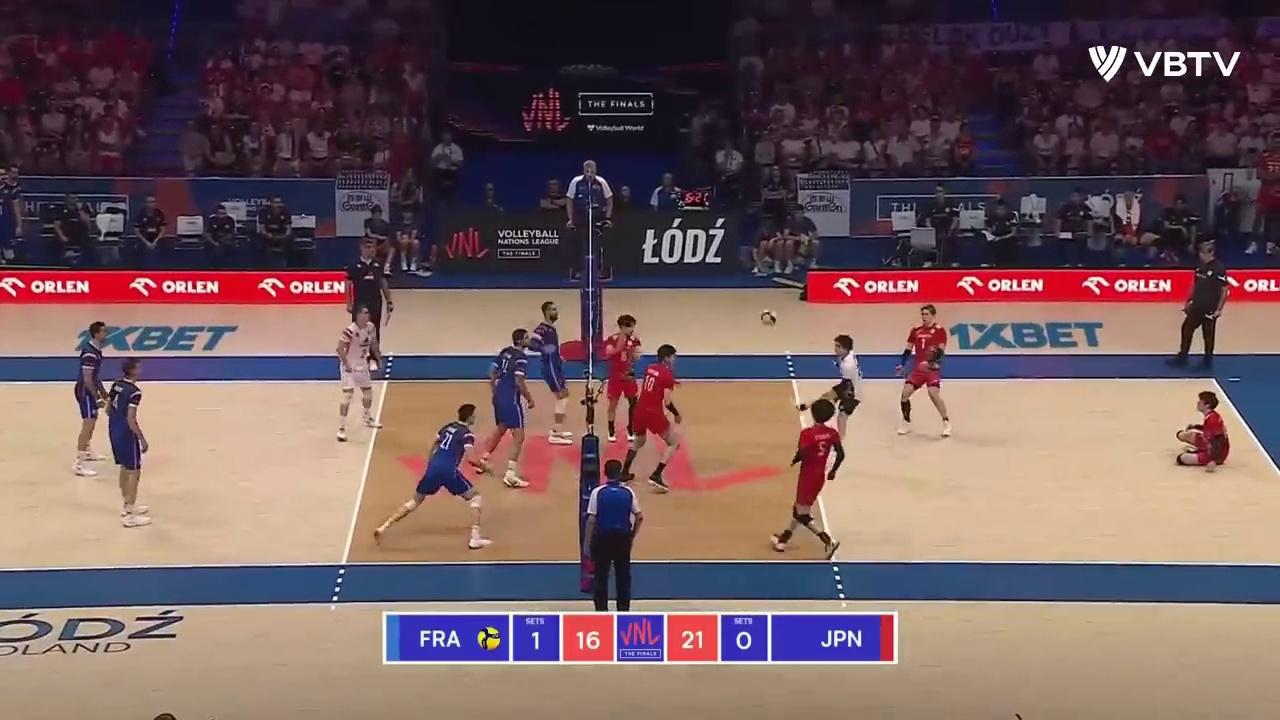ball: (757, 309, 781, 327)
